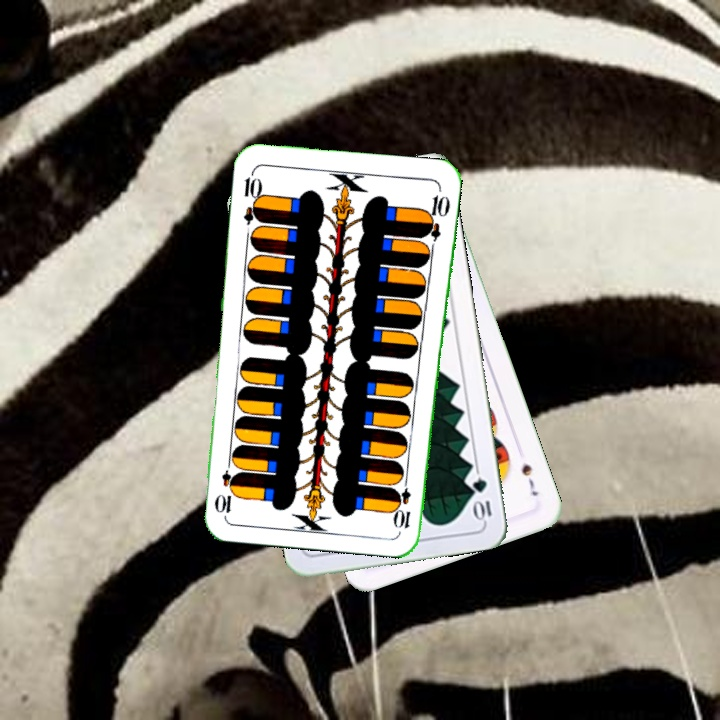E10: (239, 167, 265, 226), (394, 472, 413, 531)
G10: (468, 474, 494, 524)
S7: (517, 459, 541, 499)
